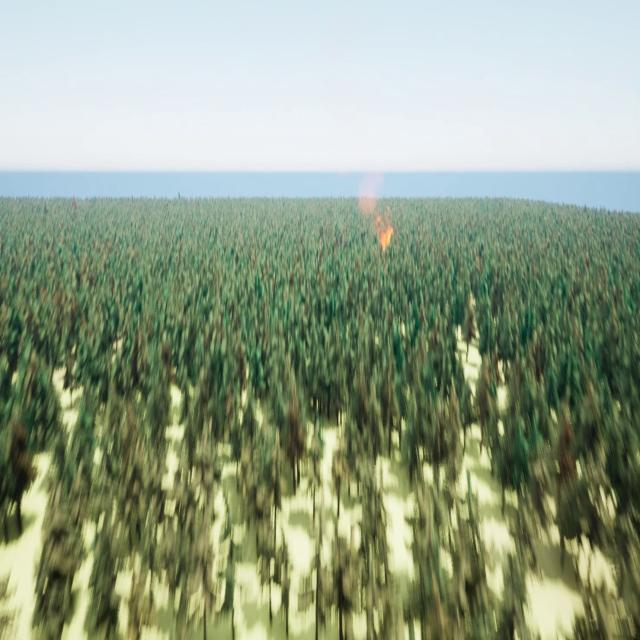fire: (376, 220, 396, 252)
smoke: (358, 170, 384, 214)
